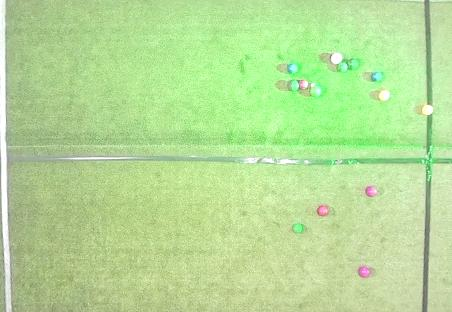blue: (287, 63, 298, 73), (371, 72, 382, 81)
green: (309, 86, 321, 97), (336, 62, 348, 73), (288, 80, 299, 91), (347, 58, 358, 69), (293, 224, 303, 233)
red: (365, 186, 377, 197), (359, 266, 370, 278), (331, 53, 342, 64), (318, 205, 329, 216), (299, 80, 308, 89)
vline: (421, 114, 452, 311), (0, 1, 16, 311), (423, 1, 451, 104)
white: (311, 83, 315, 87)
yellow: (379, 90, 390, 101), (422, 105, 434, 115)
